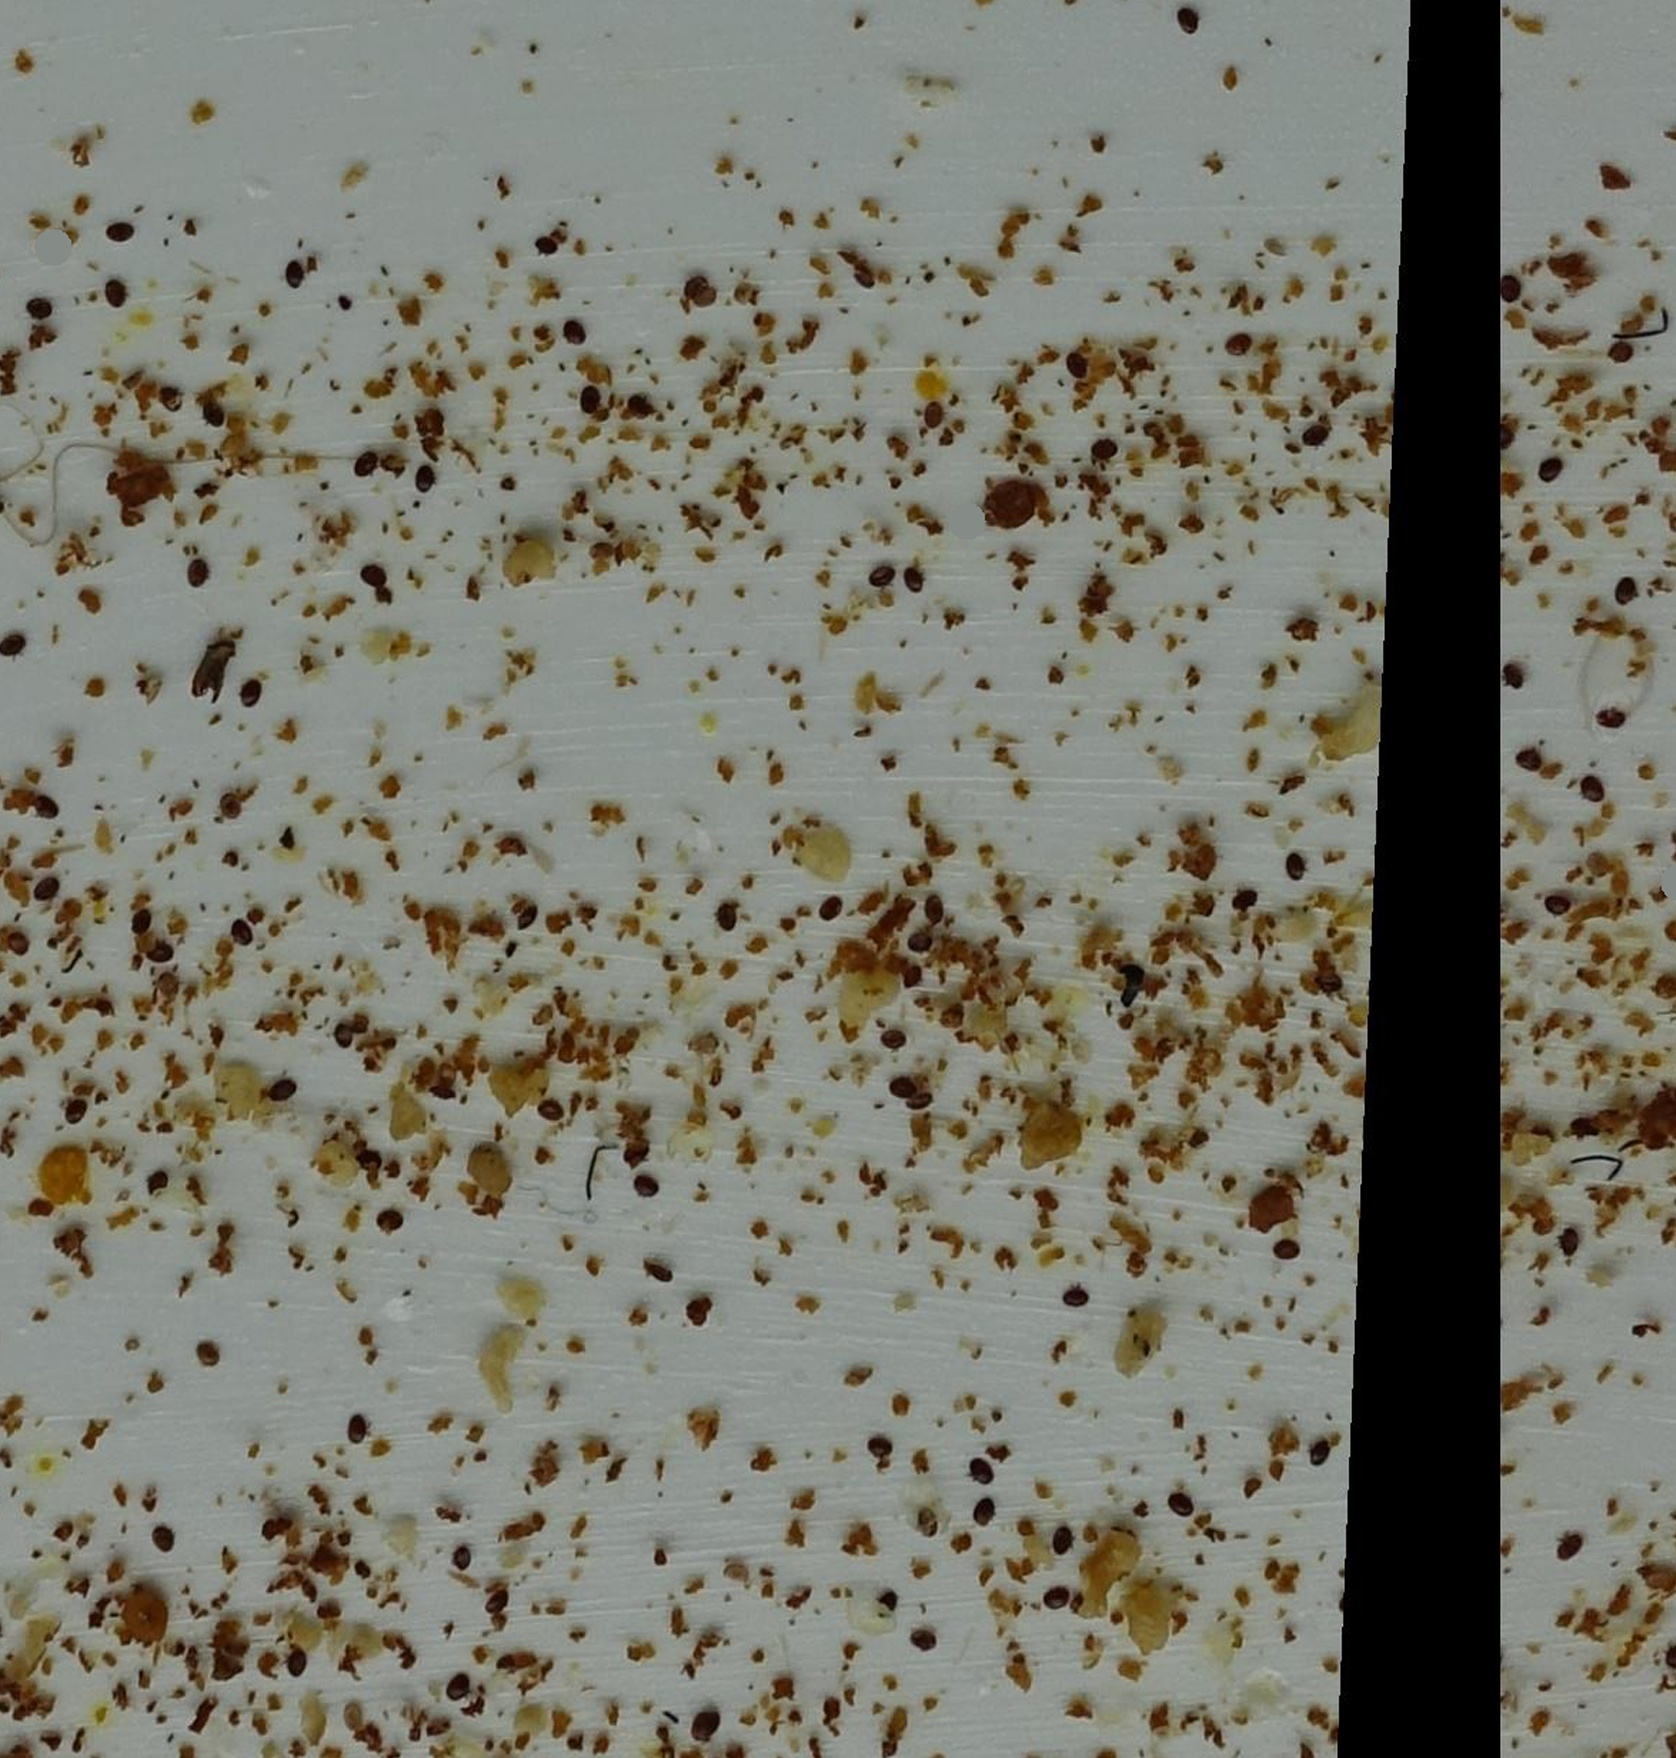Varroa: (523, 224, 565, 268), (617, 385, 659, 429), (135, 1162, 177, 1205), (345, 1138, 389, 1180), (615, 1132, 658, 1176), (865, 1584, 909, 1626), (505, 896, 548, 939), (422, 1070, 465, 1113), (1307, 962, 1350, 1005), (1563, 1107, 1605, 1149), (91, 275, 132, 319), (912, 1508, 945, 1543), (1599, 698, 1630, 735), (281, 261, 312, 297), (687, 1712, 719, 1749), (1164, 1490, 1196, 1523), (863, 1433, 894, 1466), (1040, 1585, 1073, 1617), (344, 1417, 375, 1450), (30, 793, 61, 826), (406, 465, 435, 501), (866, 564, 898, 595), (152, 1524, 184, 1556), (28, 874, 60, 906), (1048, 1527, 1080, 1559), (155, 385, 187, 416), (1557, 1530, 1587, 1563), (1516, 746, 1546, 779), (967, 1497, 996, 1530), (1224, 331, 1254, 364), (687, 276, 717, 308), (1232, 882, 1262, 914), (629, 1176, 659, 1207), (1609, 576, 1638, 607), (899, 567, 929, 598), (1576, 777, 1605, 808), (877, 1030, 909, 1060), (328, 1025, 358, 1056), (901, 1083, 931, 1114), (1499, 662, 1528, 694), (1092, 439, 1124, 469), (148, 943, 177, 975), (920, 892, 949, 923), (645, 1256, 675, 1287), (182, 557, 210, 590), (1172, 5, 1202, 35), (359, 567, 389, 596), (967, 1450, 996, 1480), (279, 1650, 309, 1680), (107, 218, 137, 248), (905, 934, 935, 964), (373, 1202, 402, 1234), (198, 400, 226, 432), (1535, 457, 1563, 487), (1284, 854, 1312, 884), (268, 1077, 297, 1107), (1304, 1441, 1332, 1471), (1550, 1227, 1579, 1257), (196, 1340, 224, 1370), (352, 452, 380, 482), (1064, 353, 1092, 383), (482, 1588, 510, 1618), (149, 975, 177, 1005), (556, 322, 584, 352), (576, 385, 604, 414), (909, 1621, 937, 1651), (129, 907, 158, 936), (894, 957, 924, 986), (239, 681, 267, 709), (1062, 1282, 1091, 1311), (1299, 422, 1328, 450), (446, 1673, 474, 1701), (64, 1096, 93, 1124), (217, 791, 243, 821), (920, 405, 946, 435), (537, 1092, 563, 1122), (31, 298, 58, 326), (1499, 276, 1525, 305), (818, 893, 844, 921), (5, 932, 31, 961), (447, 1543, 475, 1570), (712, 906, 739, 932), (1546, 892, 1572, 918), (226, 917, 253, 943), (141, 926, 166, 954), (1273, 1235, 1298, 1262), (1609, 344, 1634, 367)
